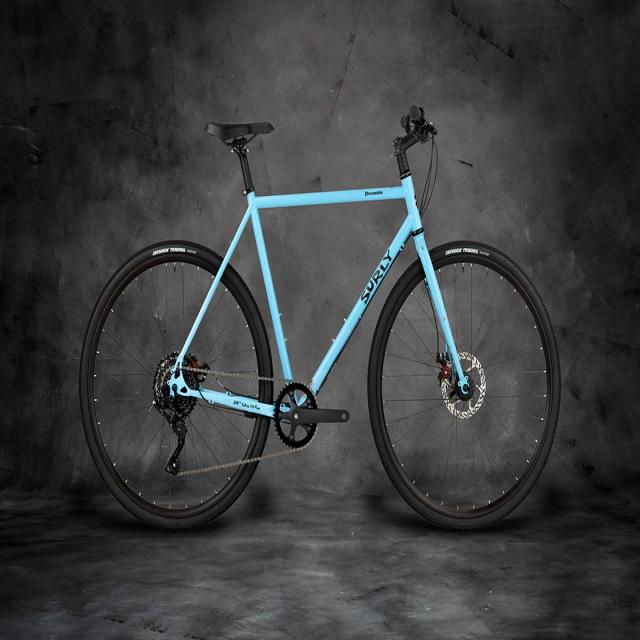road-bike: (78, 104, 562, 531)
